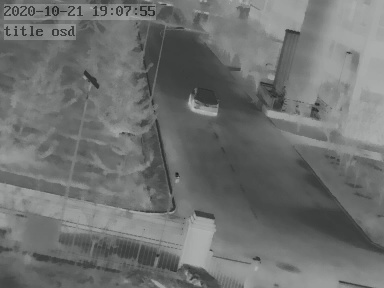vehicle: (188, 86, 219, 116)
